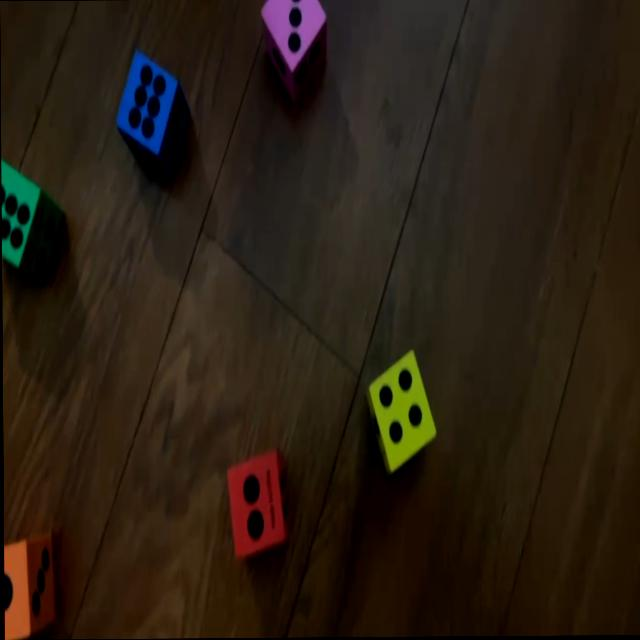red_block: (226, 448, 288, 560)
